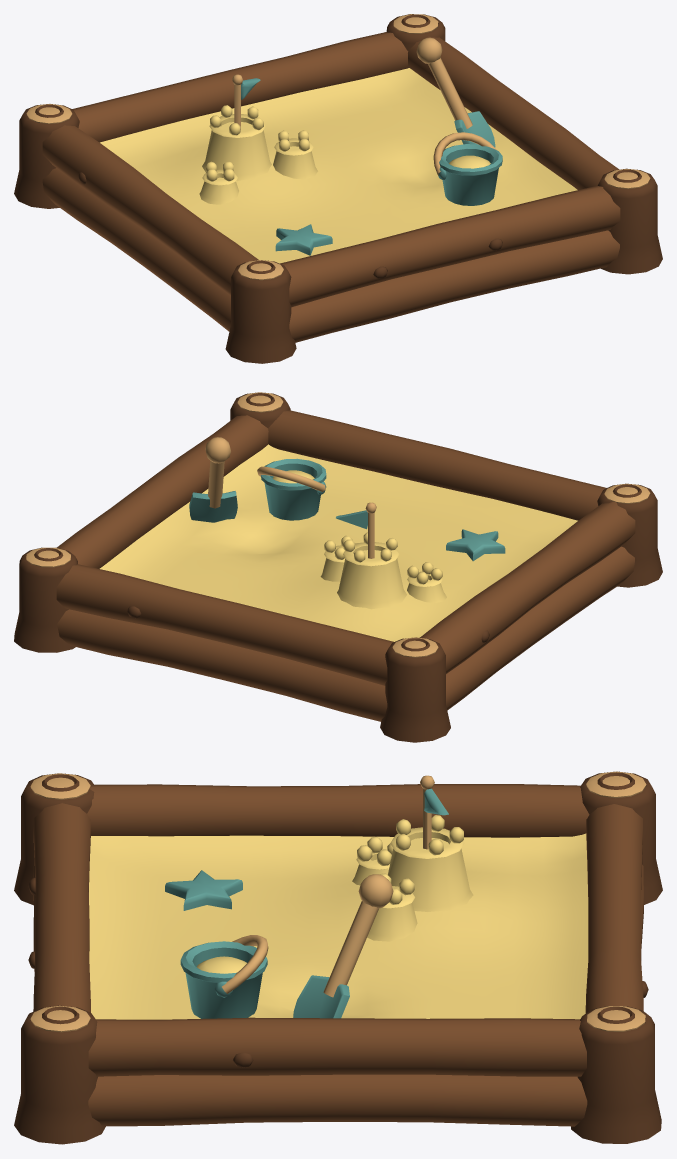
File: ShopSandbox.fbx
The picture shows the model from 3 angles, top to bottom: view 1: azimuth 30°, elevation 25°; view 2: azimuth 150°, elevation 25°; view 3: azimuth 270°, elevation 25°; orthographic projection. The views are drawn at different scales.
Parts seen in each view (by area): view 1: ShopSandbox; view 2: ShopSandbox; view 3: ShopSandbox.
Boxes of the visible parts, <box> form: ShopSandbox: <box>14,14,662,363</box>; ShopSandbox: <box>14,392,662,742</box>; ShopSandbox: <box>14,771,662,1144</box>.
Bounding box in the file's own units: 2.04 × 0.697 × 2.04.
